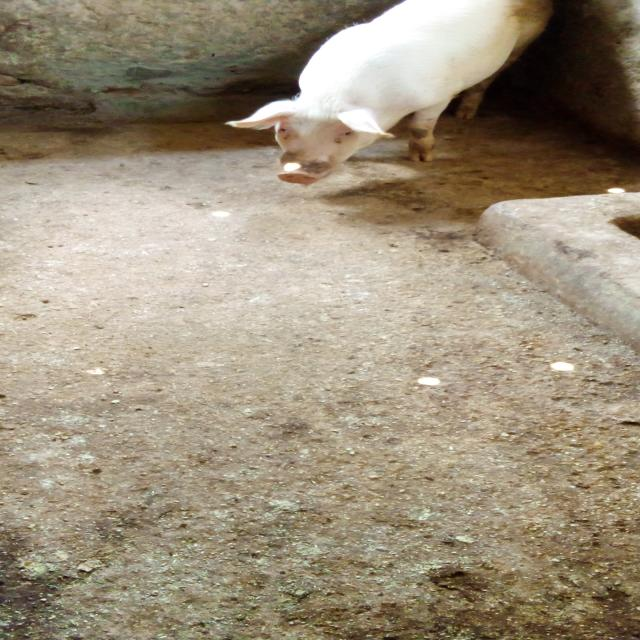pig: (169, 0, 625, 204)
